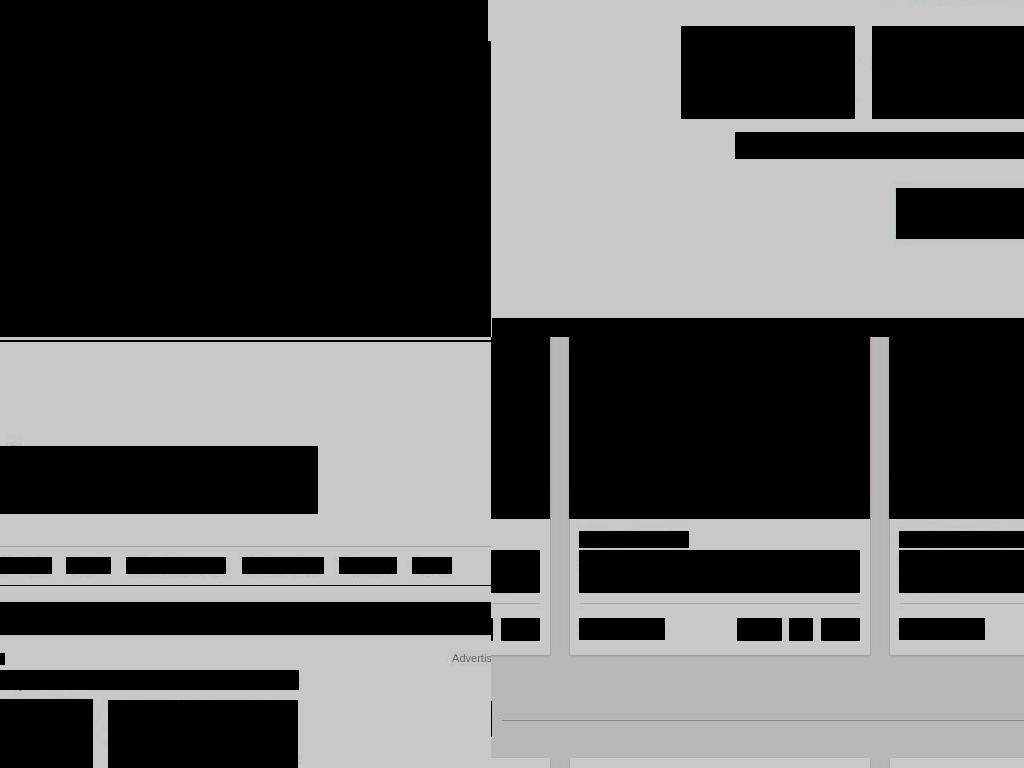button: (569, 337, 870, 519), (889, 337, 1024, 519), (0, 146, 221, 211), (579, 550, 860, 593), (896, 188, 1024, 239), (0, 699, 93, 768), (899, 550, 1024, 593), (569, 757, 870, 768), (737, 618, 782, 641), (501, 618, 540, 641), (821, 618, 860, 641)
heading: (0, 446, 318, 514), (0, 602, 491, 635), (681, 26, 855, 119), (0, 670, 299, 690), (969, 26, 1024, 119), (926, 26, 969, 119), (872, 26, 901, 119), (900, 26, 927, 119)
image: (0, 41, 491, 337), (569, 337, 870, 491), (889, 337, 1024, 513), (218, 89, 435, 138), (8, 89, 225, 138), (183, 141, 400, 190), (0, 209, 187, 258), (0, 699, 93, 768), (0, 26, 75, 75), (453, 50, 491, 99), (125, 303, 158, 336), (252, 133, 285, 166), (290, 160, 323, 193), (309, 290, 342, 323), (228, 80, 261, 113), (0, 260, 26, 293), (480, 108, 491, 141)
link: (899, 531, 1024, 548), (579, 531, 689, 548), (126, 557, 226, 574), (242, 557, 324, 574), (339, 557, 397, 574), (0, 557, 52, 574), (66, 557, 111, 574), (412, 557, 452, 574), (789, 618, 813, 641), (0, 653, 5, 665)
text: (0, 30, 488, 83), (0, 0, 488, 31), (108, 700, 298, 768), (735, 132, 1024, 159), (0, 166, 189, 190), (0, 230, 130, 250), (579, 618, 665, 640), (899, 618, 985, 640), (128, 230, 171, 250)
